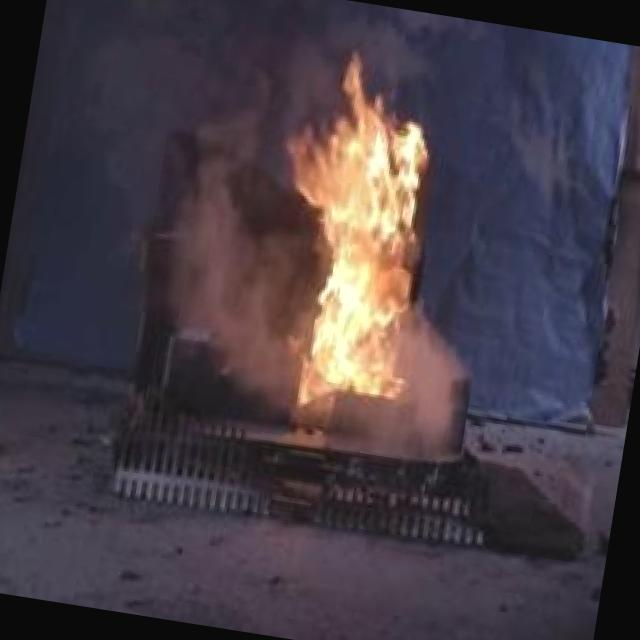fire: (236, 38, 472, 432)
